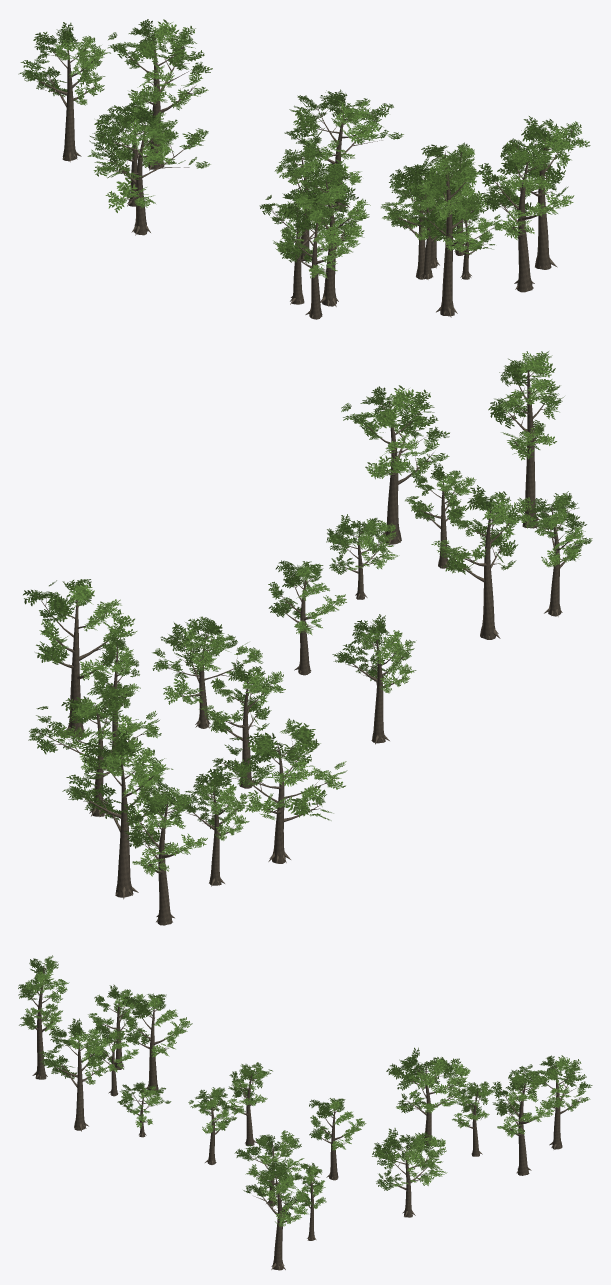
The model's file is Canopy_14_13.glb.
3 renders of one model, top to bottom at view 1: azimuth 30°, elevation 25°; view 2: azimuth 150°, elevation 25°; view 3: azimuth 270°, elevation 25°, orthographic. The views are drawn at different scales.
Parts seen in each view (by area): view 1: Canopy_14_13; view 2: Canopy_14_13; view 3: Canopy_14_13.
Boxes of the visible parts, x1,y1,x2,y2 form: Canopy_14_13: (18,19,590,319); Canopy_14_13: (23,351,592,925); Canopy_14_13: (18,955,592,1270).
Size of the model in its own units: 58.12 by 40.29 by 97.1.
2 materials, 2 textured.
